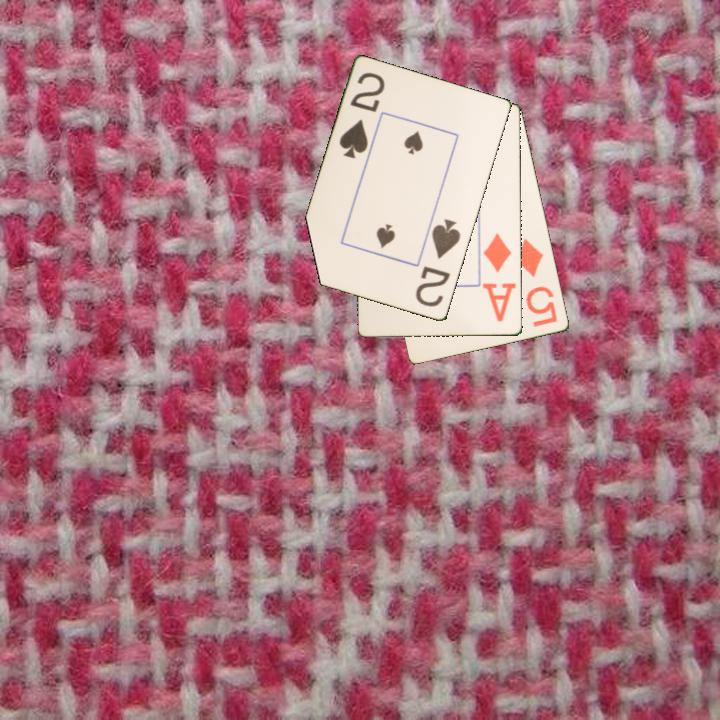2s: (412, 215, 464, 310), (336, 69, 388, 162)
5d: (512, 235, 561, 330)
Ad: (480, 230, 519, 325)
